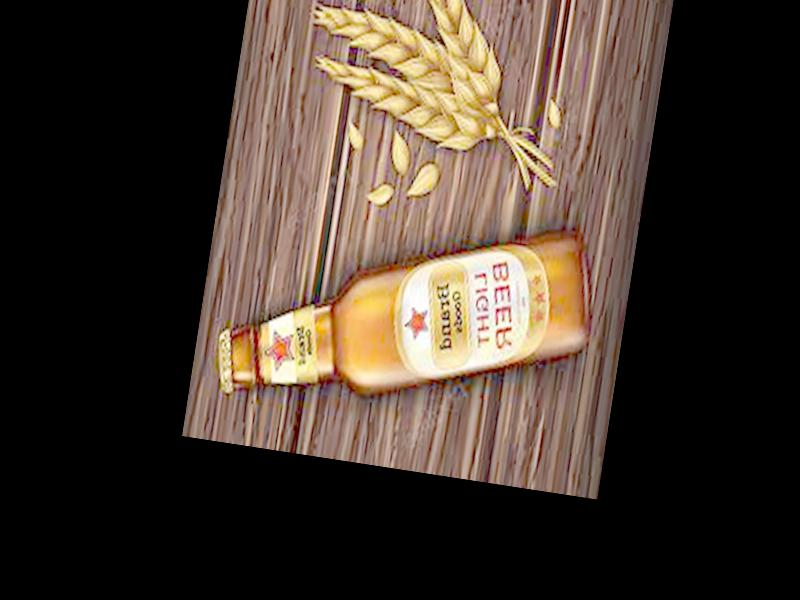Beer: (209, 183, 601, 447)
